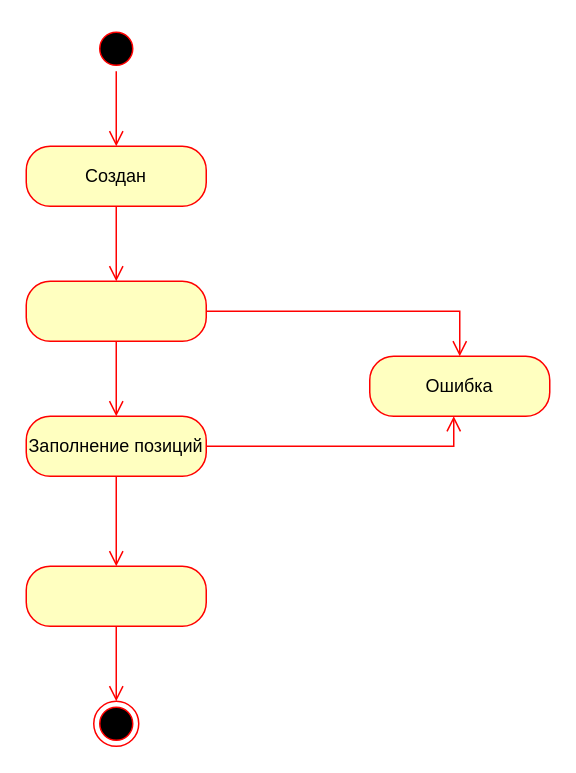
Image size: 576x773. Some labels were removed from this diagram. Each missing label, with the centre of its shape:
"Заполнение заголовка" goes at [115,310].
"Проведён" goes at [115,595].
